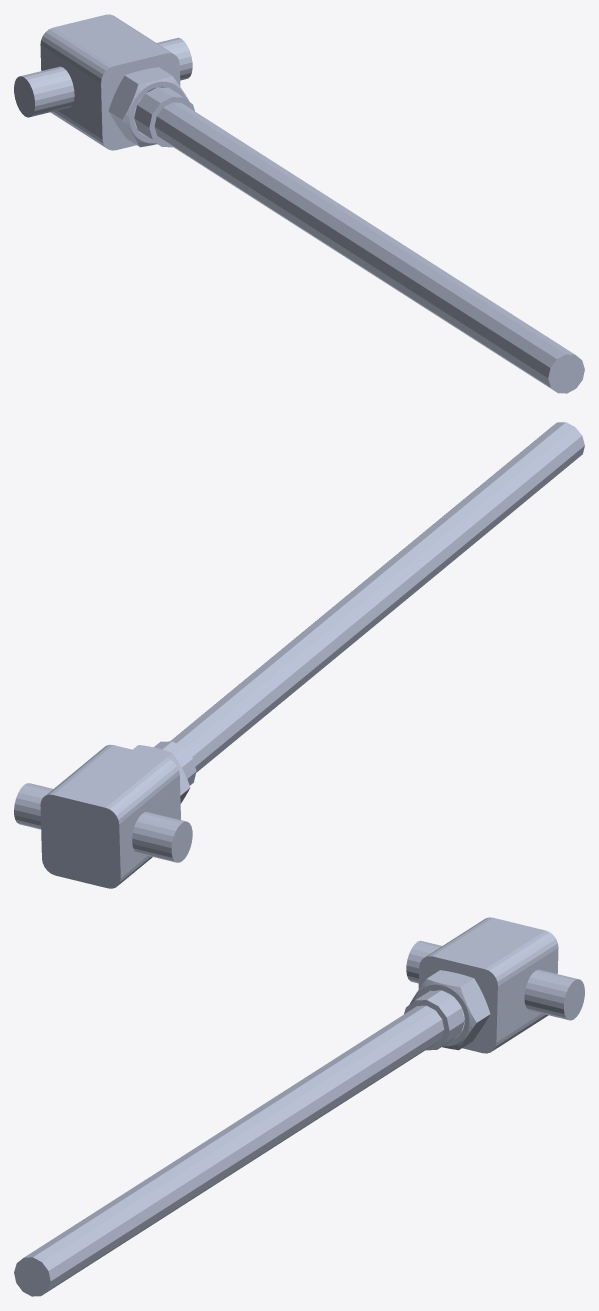
Rendered from rambler_Brazo4_vis_3.dae.
The picture shows the model from 3 angles, top to bottom: view 1: azimuth 30°, elevation 25°; view 2: azimuth 150°, elevation 25°; view 3: azimuth 330°, elevation 25°; orthographic projection.
Visible parts, largest first — view 1: Node_0x7fe0fc4d5380; view 2: Node_0x7fe0fc4d5380; view 3: Node_0x7fe0fc4d5380.
Boxes of the visible parts, bbox=[...] form: Node_0x7fe0fc4d5380: bbox=[14, 14, 584, 393]; Node_0x7fe0fc4d5380: bbox=[14, 422, 584, 888]; Node_0x7fe0fc4d5380: bbox=[14, 917, 584, 1296].
Size of the model in its own units: 0.06 by 0.0383 by 0.3217.
